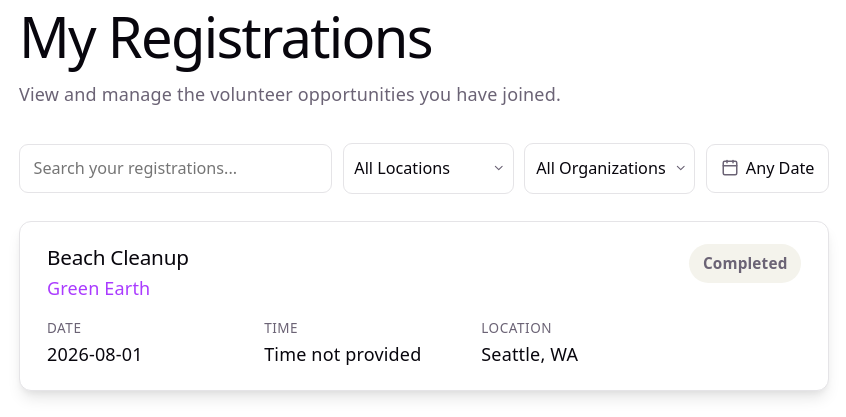
MyRegistrationsPage › shows a filtered-empty message when a filter matches nothing, without showing the initial empty state
Expected: the heading "Beach Cleanup" is shown, [47,243,189,271]
Type "nonexistent" into the search field named "Search registrations".
click(175, 168); type("nonexistent")  # box [19,144,332,193]
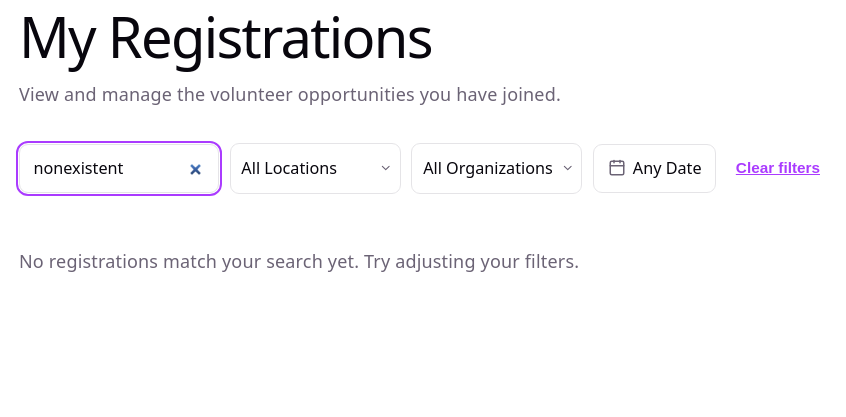
Result: the text "No registrations match your search yet. Try adjusting your filters." is shown at [19,249,579,273]
